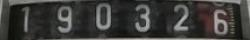digits: (172, 3, 192, 30), (18, 5, 36, 34), (56, 4, 73, 32), (133, 3, 150, 30), (95, 2, 111, 30), (212, 8, 228, 34)
